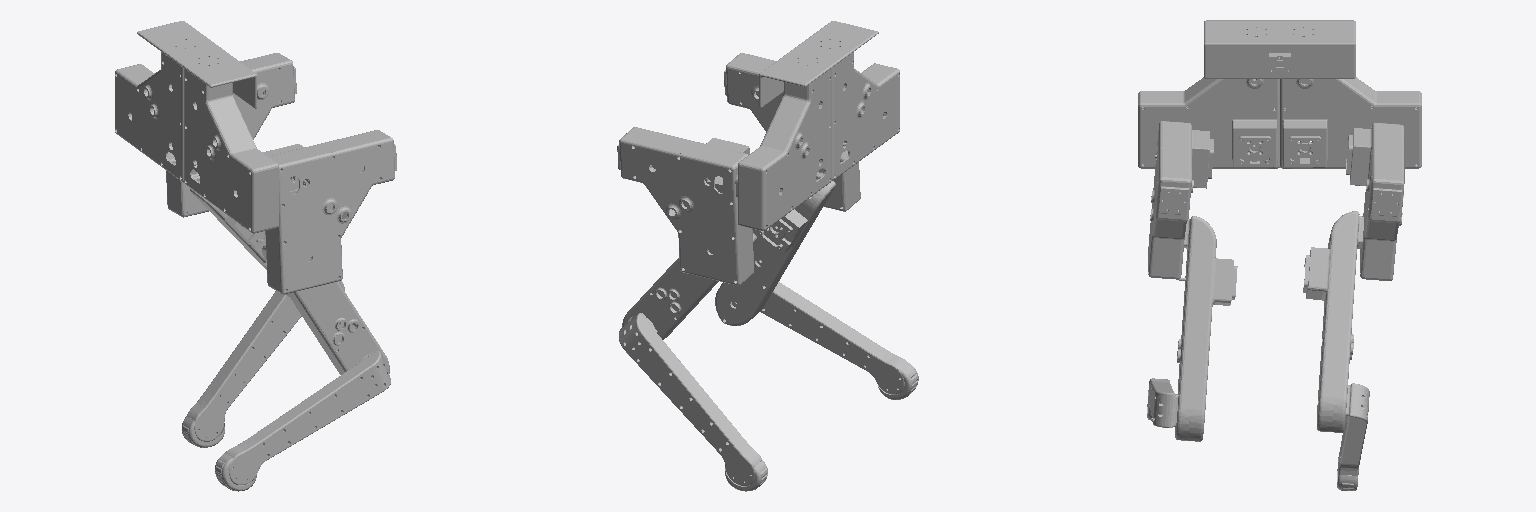
The robot description file, URDF, robot "Assembly_URDF":
<?xml version="1.0" encoding="utf-8"?>
<!-- This URDF was automatically created by SolidWorks to URDF Exporter! Originally created by Stephen Brawner (brawner@gmail.com) 
     Commit Version: 1.6.0-4-g7f85cfe  Build Version: 1.6.7995.38578
     For more information, please see http://wiki.ros.org/sw_urdf_exporter -->
<robot
  name="Assembly_URDF">
  <link
    name="Torso">
    <inertial>
      <origin
        xyz="0.061917 -0.16299 0.095403"
        rpy="0 0 0" />
      <mass
        value="1.58511" />
      <inertia
        ixx="0.010187"
        ixy="6.3307E-05"
        ixz="0.00019856"
        iyy="0.0050984"
        iyz="0.0004277"
        izz="0.0056374" />
    </inertial>
    <visual>
      <origin
        xyz="0 0 0"
        rpy="0 0 0" />
      <geometry>
        <mesh
          filename="package://Assembly_URDF/meshes/Torso.STL" />
      </geometry>
      <material
        name="">
        <color
          rgba="0.75294 0.75294 0.75294 1" />
      </material>
    </visual>
    <collision>
      <origin
        xyz="0 0 0"
        rpy="0 0 0" />
      <geometry>
        <mesh
          filename="package://Assembly_URDF/meshes/Torso.STL" />
      </geometry>
    </collision>
  </link>
  <link
    name="Hip_Left">
    <inertial>
      <origin
        xyz="-0.042811 -0.078727 -0.0058043"
        rpy="0 0 0" />
      <mass
        value="0.754" />
      <inertia
        ixx="0.0017359"
        ixy="0.00057443"
        ixz="0.00016414"
        iyy="0.0016901"
        iyz="-9.6086E-06"
        izz="0.0032829" />
    </inertial>
    <visual>
      <origin
        xyz="0 0 0"
        rpy="0 0 0" />
      <geometry>
        <mesh
          filename="package://Assembly_URDF/meshes/Hip_Left.STL" />
      </geometry>
      <material
        name="">
        <color
          rgba="0.75294 0.75294 0.75294 1" />
      </material>
    </visual>
    <collision>
      <origin
        xyz="0 0 0"
        rpy="0 0 0" />
      <geometry>
        <mesh
          filename="package://Assembly_URDF/meshes/Hip_Left.STL" />
      </geometry>
    </collision>
  </link>
  <joint
    name="LL_1"
    type="revolute">
    <origin
      xyz="0.08708 -0.34069 0.044953"
      rpy="1.5708 -1.5708 0" />
    <parent
      link="Torso" />
    <child
      link="Hip_Left" />
    <axis
      xyz="0 1 0" />
    <limit
      lower="-0.2"
      upper="0.4"
      effort="55"
      velocity="20" />
  </joint>
  <link
    name="Thigh_Left">
    <inertial>
      <origin
        xyz="0.051989 -0.016129 0.09414"
        rpy="0 0 0" />
      <mass
        value="0.655" />
      <inertia
        ixx="0.0057317"
        ixy="-0.00047408"
        ixz="-0.0028129"
        iyy="0.0075712"
        iyz="-0.00087547"
        izz="0.0023853" />
    </inertial>
    <visual>
      <origin
        xyz="0 0 0"
        rpy="0 0 0" />
      <geometry>
        <mesh
          filename="package://Assembly_URDF/meshes/Thigh_Left.STL" />
      </geometry>
      <material
        name="">
        <color
          rgba="0.75294 0.75294 0.75294 1" />
      </material>
    </visual>
    <collision>
      <origin
        xyz="0 0 0"
        rpy="0 0 0" />
      <geometry>
        <mesh
          filename="package://Assembly_URDF/meshes/Thigh_Left.STL" />
      </geometry>
    </collision>
  </link>
  <joint
    name="LL_2"
    type="revolute">
    <origin
      xyz="-0.12726 -0.0505 -0.025187"
      rpy="1.5909 0 -1.5708" />
    <parent
      link="Hip_Left" />
    <child
      link="Thigh_Left" />
    <axis
      xyz="0 0.99521 -0.097756" />
    <limit
      lower="-1"
      upper="1"
      effort="55"
      velocity="20" />
  </joint>
  <link
    name="Shank_Left">
    <inertial>
      <origin
        xyz="-0.061153 -0.019631 -0.14718"
        rpy="0 0 0" />
      <mass
        value="0.28251" />
      <inertia
        ixx="0.0019421"
        ixy="-1.179E-05"
        ixz="-0.00078463"
        iyy="0.0023239"
        iyz="-4.0715E-05"
        izz="0.00041" />
    </inertial>
    <visual>
      <origin
        xyz="0 0 0"
        rpy="0 0 0" />
      <geometry>
        <mesh
          filename="package://Assembly_URDF/meshes/Shank_Left.STL" />
      </geometry>
      <material
        name="">
        <color
          rgba="0.75294 0.75294 0.75294 1" />
      </material>
    </visual>
    <collision>
      <origin
        xyz="0 0 0"
        rpy="0 0 0" />
      <geometry>
        <mesh
          filename="package://Assembly_URDF/meshes/Shank_Left.STL" />
      </geometry>
    </collision>
  </link>
  <joint
    name="LL_3"
    type="revolute">
    <origin
      xyz="0.13187 0.027867 0.23255"
      rpy="3.1416 -0.81921 0" />
    <parent
      link="Thigh_Left" />
    <child
      link="Shank_Left" />
    <axis
      xyz="0.071421 0.99521 -0.066747" />
    <limit
      lower="-1"
      upper="0.2"
      effort="55"
      velocity="20" />
  </joint>
  <link
    name="Hip_Right">
    <inertial>
      <origin
        xyz="-0.04238 -0.096347 0.018058"
        rpy="0 0 0" />
      <mass
        value="0.754" />
      <inertia
        ixx="0.00323"
        ixy="0.00098777"
        ixz="0.00013991"
        iyy="0.0031565"
        iyz="-0.00020179"
        izz="0.0061566" />
    </inertial>
    <visual>
      <origin
        xyz="0 0 0"
        rpy="0 0 0" />
      <geometry>
        <mesh
          filename="package://Assembly_URDF/meshes/Hip_Right.STL" />
      </geometry>
      <material
        name="">
        <color
          rgba="0.75294 0.75294 0.75294 1" />
      </material>
    </visual>
    <collision>
      <origin
        xyz="0 0 0"
        rpy="0 0 0" />
      <geometry>
        <mesh
          filename="package://Assembly_URDF/meshes/Hip_Right.STL" />
      </geometry>
    </collision>
  </link>
  <joint
    name="RL_1"
    type="revolute">
    <origin
      xyz="0.08177 -0.014856 0.044953"
      rpy="1.5708 -1.5708 0" />
    <parent
      link="Torso" />
    <child
      link="Hip_Right" />
    <axis
      xyz="0 1 0" />
    <limit
      lower="-0.2"
      upper="0.4"
      effort="55"
      velocity="20" />
  </joint>
  <link
    name="Thigh_Right">
    <inertial>
      <origin
        xyz="0.065346 -0.038287 -0.078458"
        rpy="0 0 0" />
      <mass
        value="0.655" />
      <inertia
        ixx="0.0047088"
        ixy="6.0287E-06"
        ixz="0.0032615"
        iyy="0.0076864"
        iyz="-3.4161E-05"
        izz="0.0032303" />
    </inertial>
    <visual>
      <origin
        xyz="0 0 0"
        rpy="0 0 0" />
      <geometry>
        <mesh
          filename="package://Assembly_URDF/meshes/Thigh_Right.STL" />
      </geometry>
      <material
        name="">
        <color
          rgba="0.75294 0.75294 0.75294 1" />
      </material>
    </visual>
    <collision>
      <origin
        xyz="0 0 0"
        rpy="0 0 0" />
      <geometry>
        <mesh
          filename="package://Assembly_URDF/meshes/Thigh_Right.STL" />
      </geometry>
    </collision>
  </link>
  <joint
    name="RL_2"
    type="revolute">
    <origin
      xyz="-0.12222 -0.0625 0.037338"
      rpy="-1.5753 0 -1.5708" />
    <parent
      link="Hip_Right" />
    <child
      link="Thigh_Right" />
    <axis
      xyz="0 0.99687 -0.07906" />
    <limit
      lower="-1"
      upper="1"
      effort="55"
      velocity="20" />
  </joint>
  <link
    name="Shank_Right">
    <inertial>
      <origin
        xyz="-0.013788 -0.010056 0.16019"
        rpy="0 0 0" />
      <mass
        value="0.28251" />
      <inertia
        ixx="0.002247"
        ixy="1.4052E-05"
        ixz="0.00023346"
        iyy="0.0023139"
        iyz="-0.00015694"
        izz="0.00011505" />
    </inertial>
    <visual>
      <origin
        xyz="0 0 0"
        rpy="0 0 0" />
      <geometry>
        <mesh
          filename="package://Assembly_URDF/meshes/Shank_Right.STL" />
      </geometry>
      <material
        name="">
        <color
          rgba="0.75294 0.75294 0.75294 1" />
      </material>
    </visual>
    <collision>
      <origin
        xyz="0 0 0"
        rpy="0 0 0" />
      <geometry>
        <mesh
          filename="package://Assembly_URDF/meshes/Shank_Right.STL" />
      </geometry>
    </collision>
  </link>
  <joint
    name="RL_3"
    type="revolute">
    <origin
      xyz="0.16821 -0.024545 -0.2083"
      rpy="3.1416 0.69204 0" />
    <parent
      link="Thigh_Right" />
    <child
      link="Shank_Right" />
    <axis
      xyz="0.050449 -0.99687 0.060872" />
    <limit
      lower="-0.9"
      upper="0.4"
      effort="55"
      velocity="20" />
  </joint>
</robot>

--- Facts derived from the render (not from the file) ---
The picture shows the robot from 3 angles, left to right: view 1: azimuth 30°, elevation 25°; view 2: azimuth 150°, elevation 25°; view 3: azimuth 270°, elevation 25°; orthographic projection.
Model Assembly_URDF with 7 links and 6 joints (6 revolute), rooted at Torso, posed all joints at 0.
Visible links, largest first — view 1: Torso, Hip_Left, Shank_Left, Shank_Right, Thigh_Left, Hip_Right, Thigh_Right; view 2: Torso, Hip_Right, Shank_Right, Shank_Left, Thigh_Left, Hip_Left, Thigh_Right; view 3: Torso, Thigh_Right, Thigh_Left, Hip_Left, Hip_Right, Shank_Right, Shank_Left.
Boxes of the visible links, x1,y1,x2,y2 form: Torso: (115,21,278,233); Hip_Left: (263,130,396,294); Shank_Left: (215,351,390,491); Shank_Right: (182,291,301,447); Thigh_Left: (262,245,389,374); Hip_Right: (166,53,296,217); Thigh_Right: (190,189,344,290); Torso: (738,21,899,230); Hip_Right: (617,127,753,285); Shank_Right: (619,313,767,491); Shank_Left: (760,282,918,399); Thigh_Left: (715,181,835,325); Hip_Left: (724,53,860,211); Thigh_Right: (622,233,756,339); Torso: (1138,20,1421,168); Thigh_Right: (1303,211,1363,432); Thigh_Left: (1175,216,1237,441); Hip_Left: (1148,121,1213,279); Hip_Right: (1346,123,1404,280); Shank_Right: (1337,383,1369,490); Shank_Left: (1147,378,1178,427).
Bounding box of the posed robot: 0.3687 × 0.43 × 0.7297 m (x, y, z).
7 mesh visuals loaded from 7 distinct referenced files (7 binary STL).
